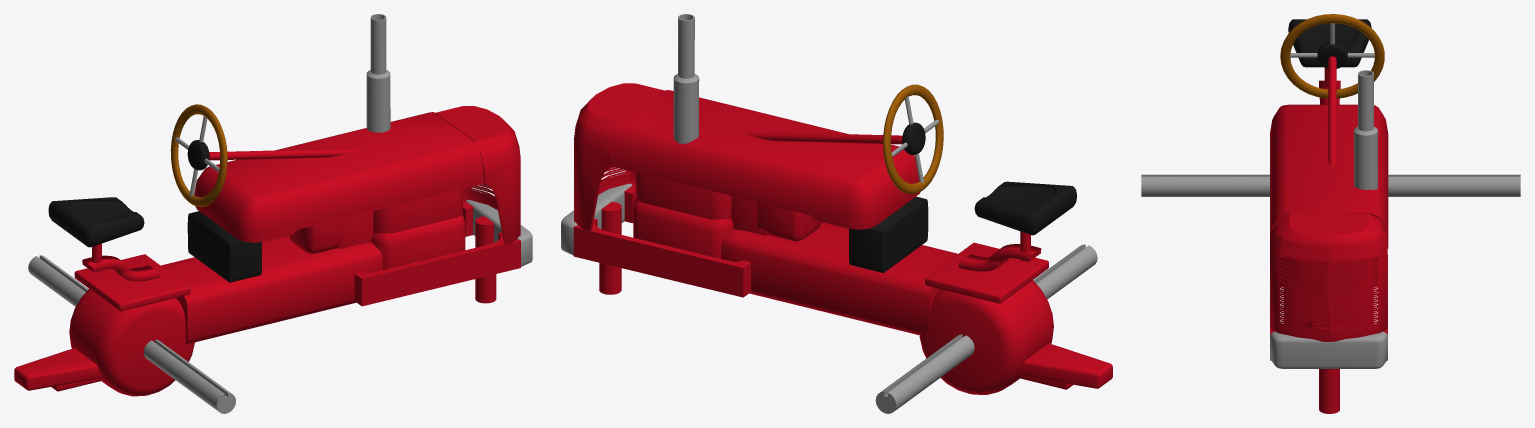
File: corpseCar2.DAE
The picture shows the model from 3 angles, left to right: view 1: azimuth 30°, elevation 25°; view 2: azimuth 150°, elevation 25°; view 3: azimuth 270°, elevation 25°; orthographic projection. The views are drawn at different scales.
Visible parts, largest first — view 1: ChamferBox01, ChamferBox06, ChamferBox30, ChamferBox02, Box02, Cylinder143, ChamferBox10, ChamferBox09, ChamferBox29, ChamferBox04, ChamferBox03, Torus03 (+9 smaller); view 2: ChamferBox01, ChamferBox06, ChamferBox30, ChamferBox02, Box01, Cylinder143, ChamferBox10, ChamferBox29, ChamferBox09, ChamferBox04, ChamferBox03, Torus03 (+9 smaller); view 3: ChamferBox02, ChamferBox01, Cylinder143, ChamferBox08, Torus03, ChamferBox10, ChamferBox04, ChamferCyl24, Cylinder15, Tube02, Cylinder23, ChamferBox03 (+1 smaller).
Boxes of the visible parts, x1,y1,x2,y2 form: ChamferBox01: (194,112,483,242); ChamferBox06: (161,235,382,344); ChamferBox30: (14,289,194,396); ChamferBox02: (435,106,520,244); Box02: (354,232,520,306); Cylinder143: (28,255,235,413); ChamferBox10: (48,197,144,247); ChamferBox09: (74,254,190,311); ChamferBox29: (187,211,261,282); ChamferBox04: (371,214,465,269); ChamferBox03: (373,189,462,233); Torus03: (170,104,227,206); ChamferBox01: (613,90,920,229); ChamferBox06: (721,222,957,335); ChamferBox30: (919,280,1112,394); ChamferBox02: (574,83,664,230); Box01: (573,218,751,297); Cylinder143: (875,244,1097,413); ChamferBox10: (974,181,1076,235); ChamferBox29: (849,196,928,272); ChamferBox09: (925,242,1048,303); ChamferBox04: (633,199,733,258); ChamferBox03: (635,172,731,219); Torus03: (883,84,943,194); ChamferBox02: (1270,213,1387,341); ChamferBox01: (1270,104,1388,248); Cylinder143: (1141,174,1520,196); ChamferBox08: (1270,331,1387,368); Torus03: (1280,14,1384,98); ChamferBox10: (1288,19,1371,67); ChamferBox04: (1284,255,1373,328); ChamferCyl24: (1354,126,1377,189); Cylinder15: (1328,56,1336,166); Tube02: (1358,70,1373,131); Cylinder23: (1319,328,1339,413); ChamferBox03: (1289,256,1367,294).
Bounding box in the file's own units: 52.71 × 35.31 × 30.06.
